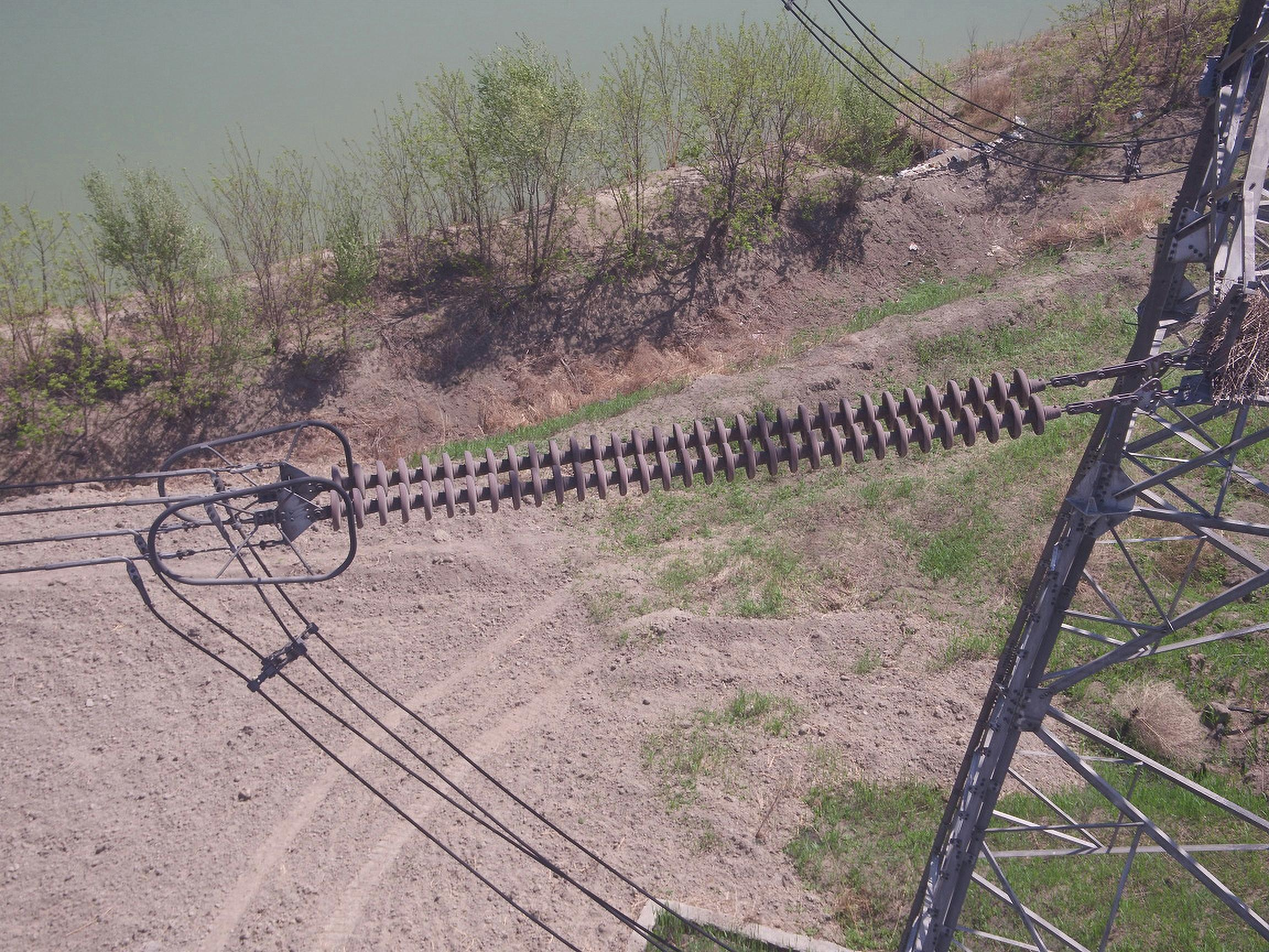insulator: (319, 363, 1051, 536)
